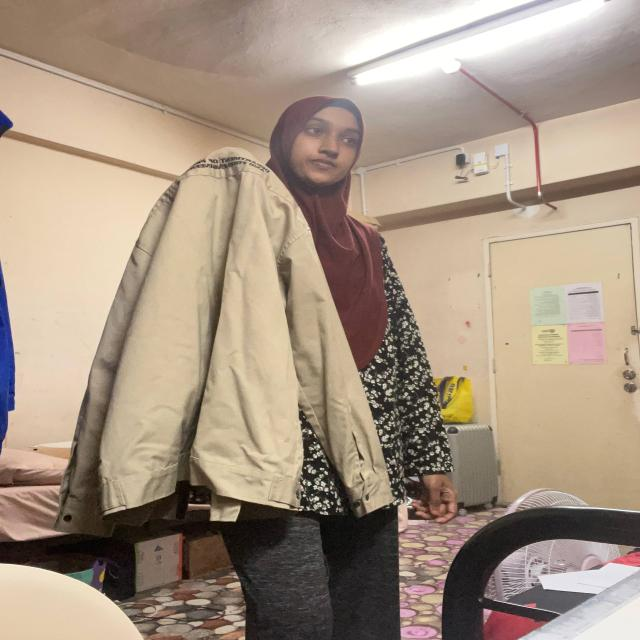person_without_labcoat: (80, 96, 458, 640)
